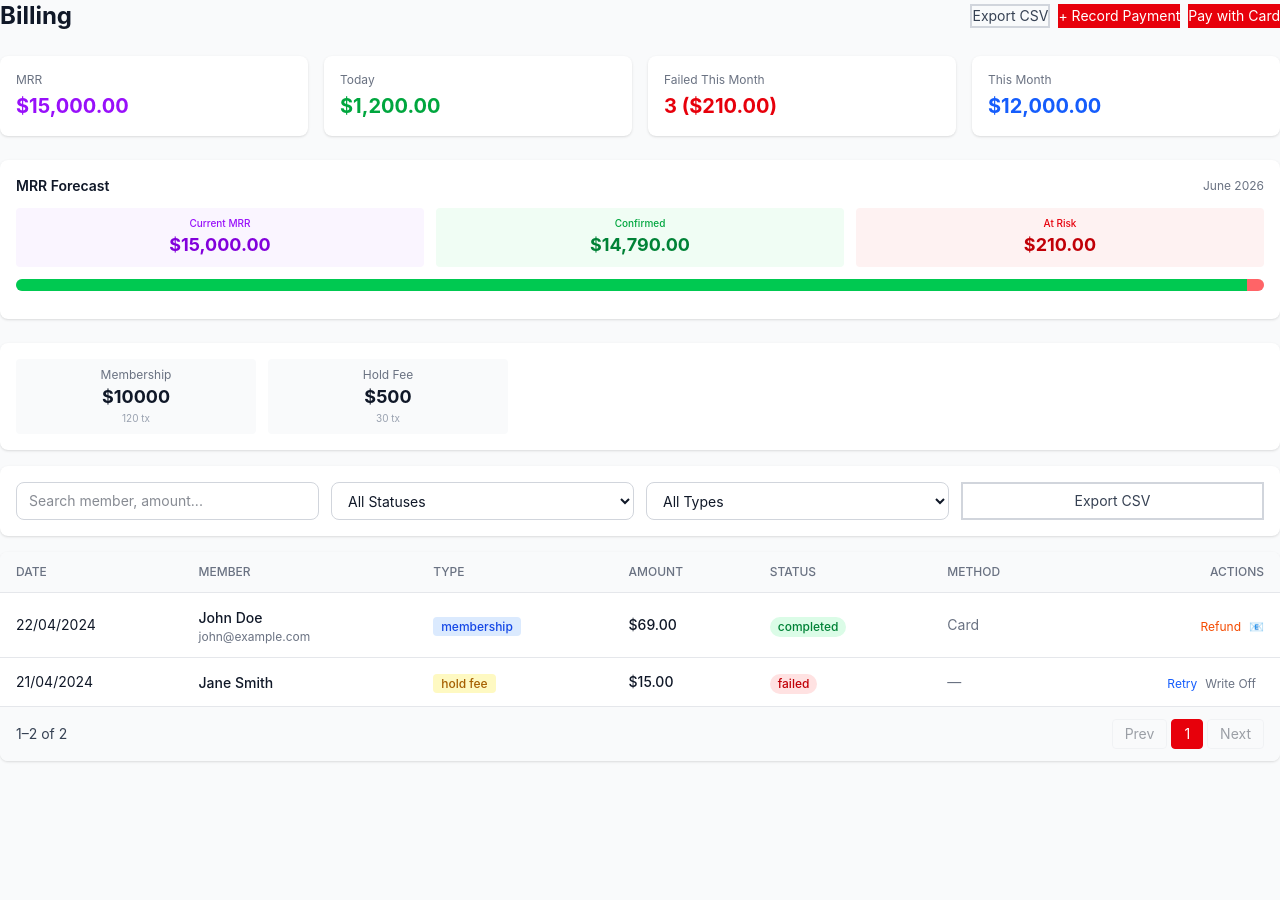
Test: Billing Page › opens write-off modal for a failed transaction
This screenshot has width=1280, height=900.
Click the button "Write Off" at (1231, 684), box left=1205, top=676, right=1256, bottom=692
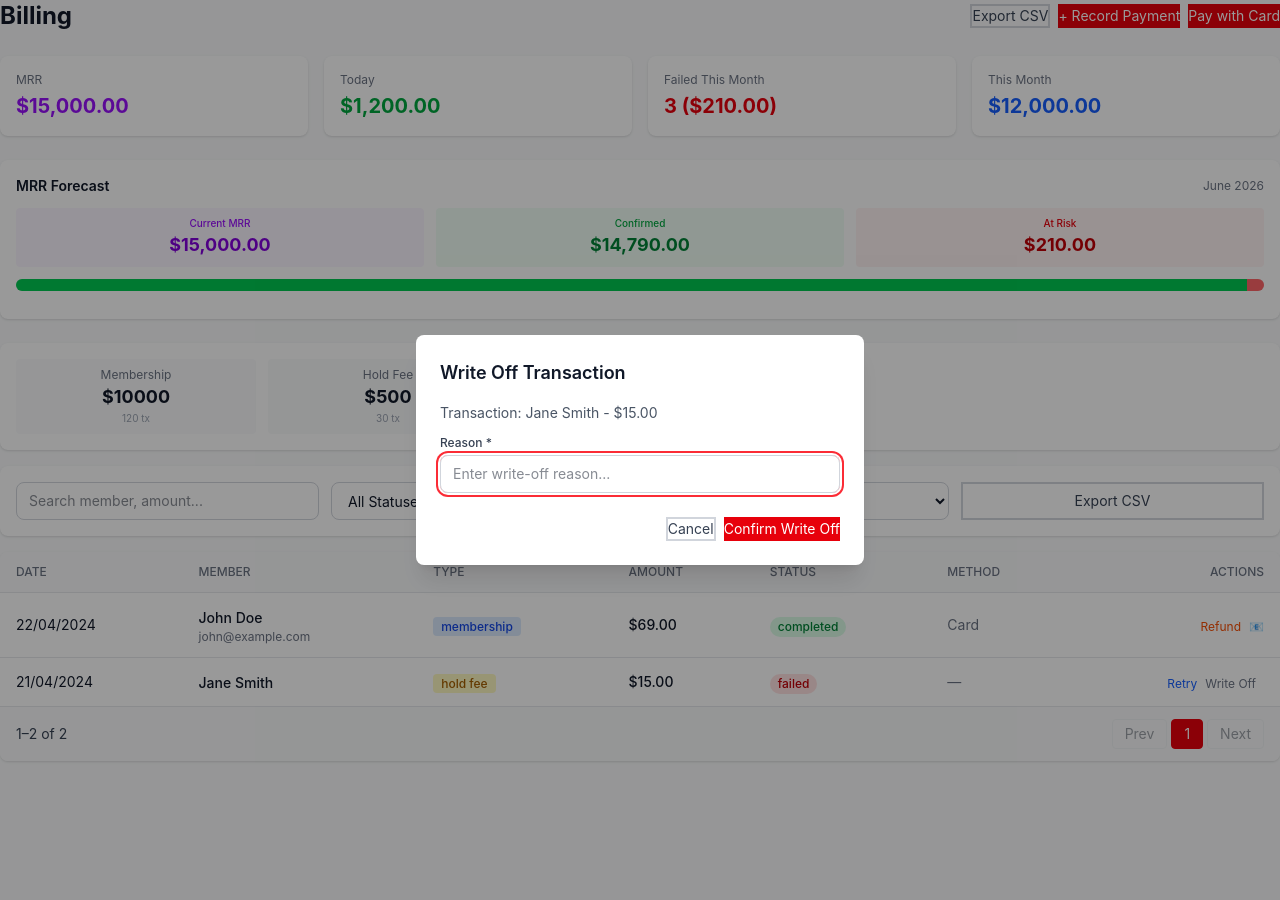
Now the heading "Write Off Transaction" is shown, box left=440, top=362, right=626, bottom=383
